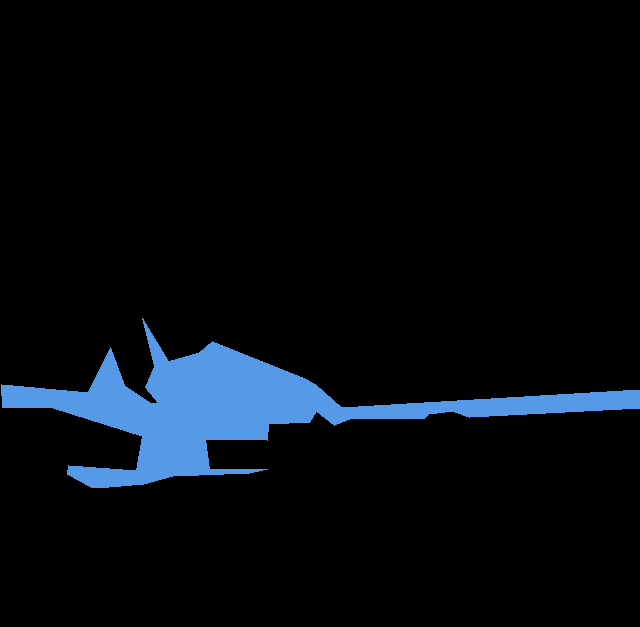Airplane: (1, 318, 640, 487)
